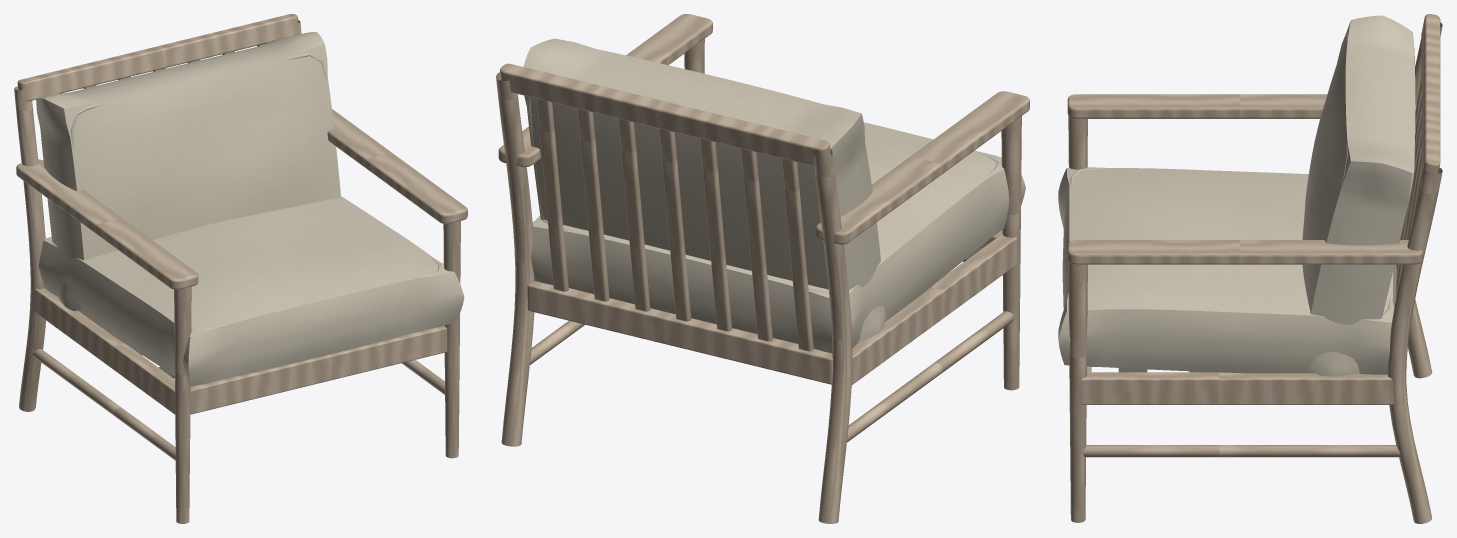
The model's file is kowhai-hero-liv-02.glb.
3 renders of one model, left to right at view 1: azimuth 30°, elevation 25°; view 2: azimuth 150°, elevation 25°; view 3: azimuth 270°, elevation 25°, orthographic. The views are drawn at different scales.
Parts seen in each view (by area): view 1: SubPart (×12); view 2: SubPart (×19); view 3: SubPart (×12).
Part boxes in pixels (<box>): SubPart (×12): <box>14,14,467,523</box>; SubPart (×19): <box>496,14,1029,523</box>; SubPart (×12): <box>1058,14,1442,523</box>.
Size of the model in its own units: 0.728 by 0.7615 by 0.7359.
4 materials, 3 textured.
